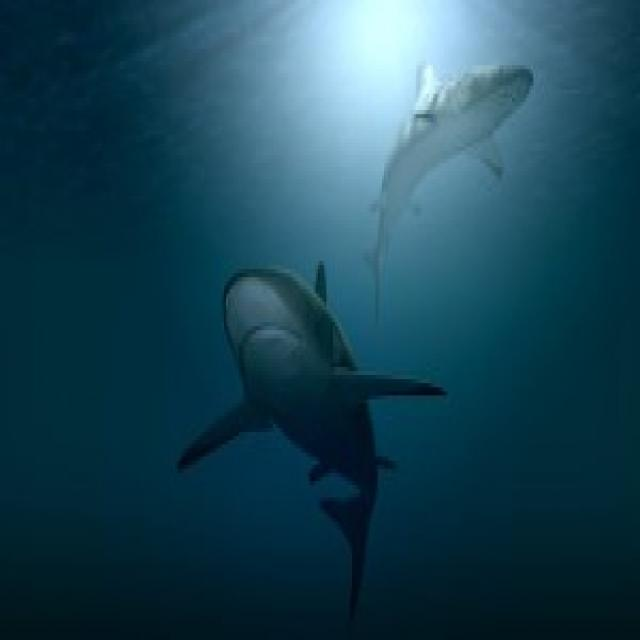Shark: (176, 254, 450, 602), (367, 49, 557, 318)
